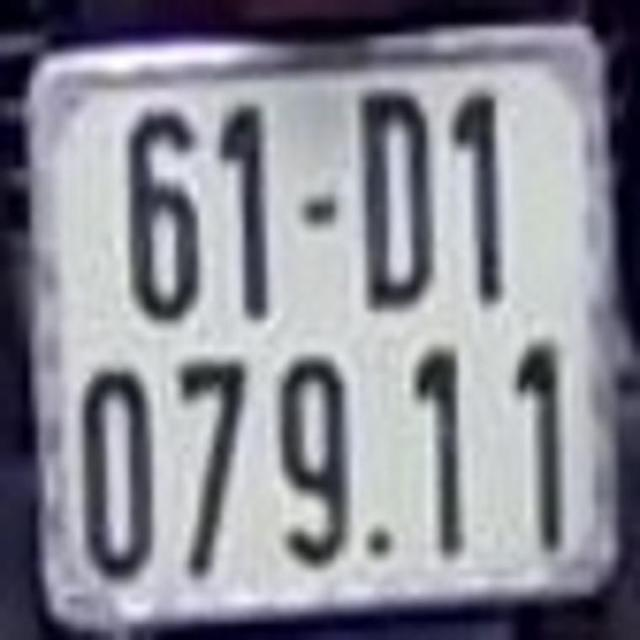0: (79, 365, 157, 579)
1: (217, 101, 278, 320), (450, 87, 510, 306), (412, 345, 470, 557), (513, 338, 570, 553)
6: (124, 105, 204, 322)
7: (174, 355, 247, 576)
9: (276, 351, 351, 568)
D: (354, 88, 437, 311)
